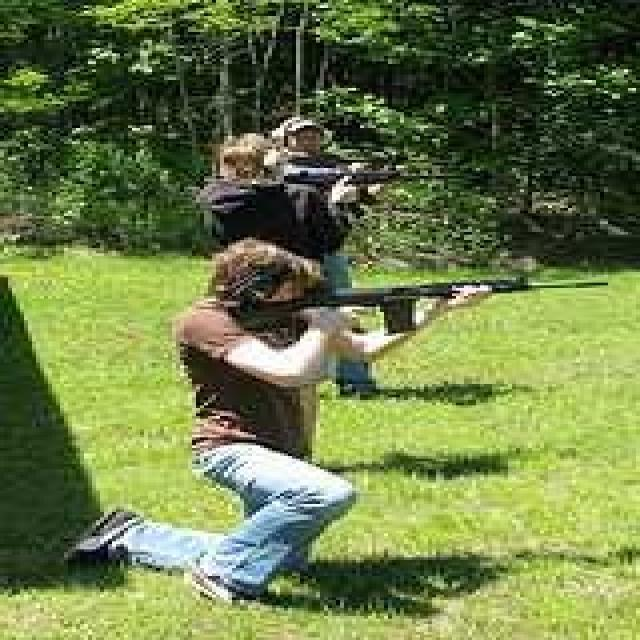Rifle: (226, 264, 623, 346), (254, 148, 480, 207)
